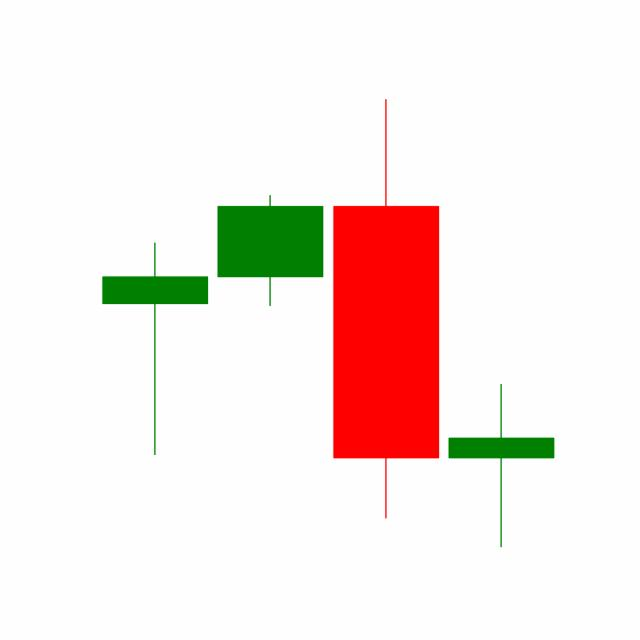Spinning Top: (443, 382, 559, 550)
